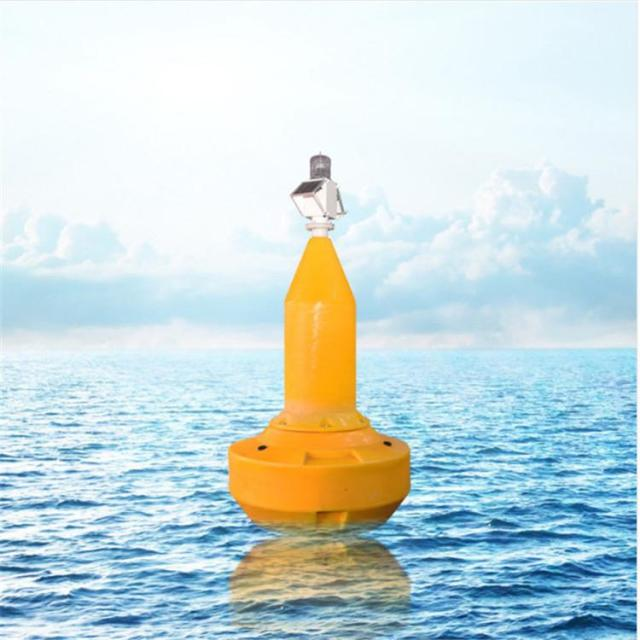buoy: (226, 154, 418, 525)
